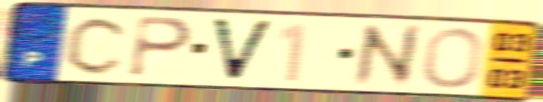1: (277, 21, 310, 83)
C: (62, 14, 132, 77)
N: (352, 22, 422, 89)
O: (420, 26, 486, 90)
P: (125, 14, 196, 80)
V: (208, 16, 278, 84)
